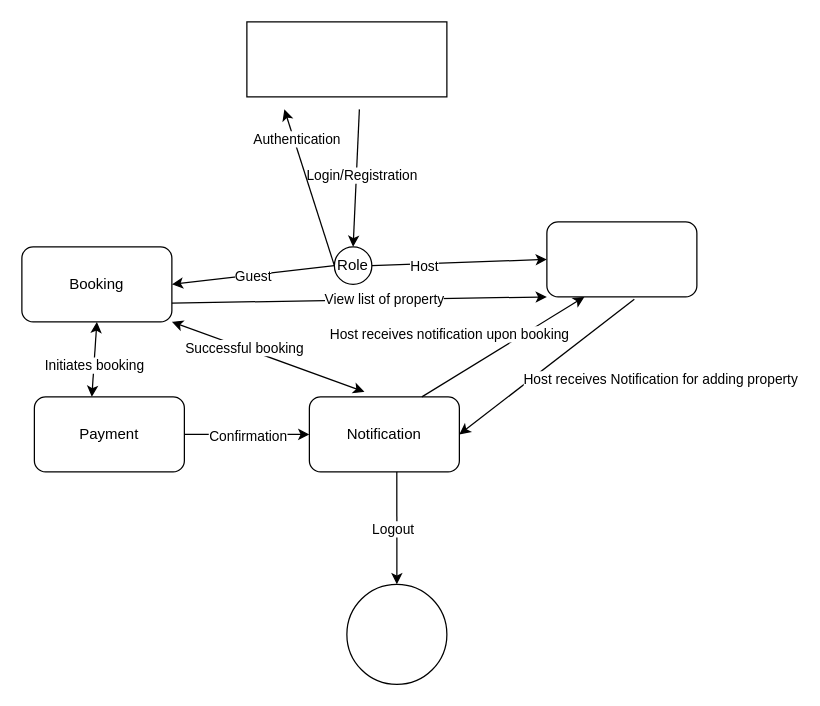
The diagram is 820 pixels wide and 706 high, and some of its shapes have lost their labels. The centre of each missing label's shape, as x and y in pixels:
Property Listing: the point at 621,259
User: the point at 346,59
